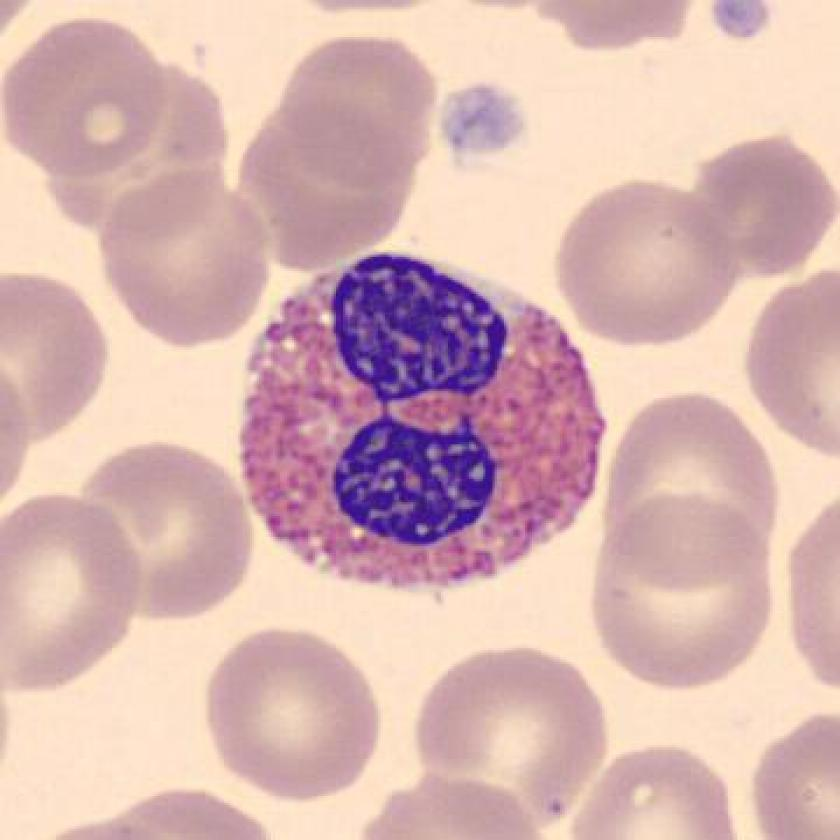eosinophil: (218, 235, 633, 607)
